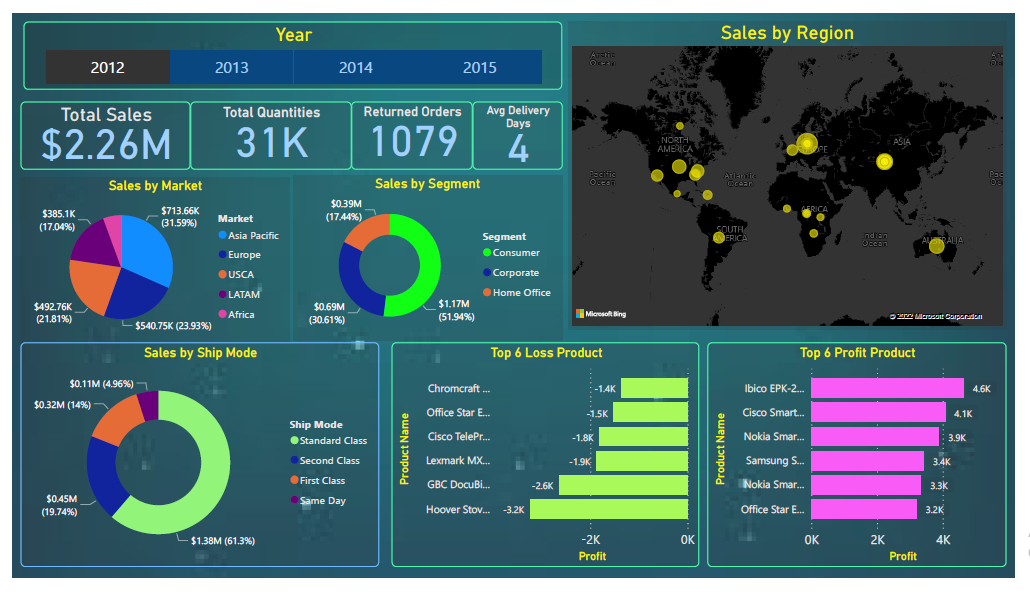

This screenshot's page, from the dashboard's own definition file:
{"tool":"powerbi","page":{"name":"DAX+","canvas":[1280,720],"ordinal":0},"visuals":[{"type":"card","title":"Total Sales","fields":{"Values":["Sum(Orders.Sales)"]},"box":[10.1,112.2,216.9,87],"z":0},{"type":"card","title":"Total Quantities ","fields":{"Values":["Sum(Orders.Quantity)"]},"box":[227,112.2,205.5,87],"z":1},{"type":"card","title":"Avg Delivery Days","fields":{"Values":["Avg(Orders.Delivery Days)"]},"box":[587.6,112.2,114.7,87],"z":2},{"type":"slicer","title":"Year","fields":{"Values":["Orders.Year"]},"box":[13.9,10.1,688.5,87],"z":3},{"type":"card","title":"Returned Orders","fields":{"Values":["Sum(Returns.No. of Returned Orders)"]},"box":[432.5,112.2,155.1,87],"z":4},{"type":"map","fields":{"Size":["Sum(Orders.Sales)"],"Category":["Orders.Region"]},"box":[709.9,10.1,559.9,393.4],"z":5},{"type":"clusteredBarChart","title":"Top 6 Profit Product","fields":{"Y":["Sum(Orders.Profit)"],"Category":["Orders.Product Name"]},"box":[887.7,419.9,382.1,287.5],"z":6},{"type":"clusteredBarChart","title":"Top 6 Loss Product","fields":{"Y":["Sum(Orders.Profit)"],"Category":["Orders.Product Name"]},"box":[484.2,419.9,393.4,287.5],"z":7},{"type":"pieChart","fields":{"Y":["Sum(Orders.Sales)"],"Category":["Orders.Market"]},"box":[10.1,209.3,344.2,210.6],"z":8},{"type":"donutChart","fields":{"Y":["Sum(Orders.Sales)"],"Category":["Orders.Segment"]},"box":[358.1,206.8,344.2,210.6],"z":9},{"type":"donutChart","fields":{"Category":["Orders.Ship Mode"],"Y":["Sum(Orders.Sales)"]},"box":[10.1,419.9,457.7,287.5],"z":10}]}

Visuals, with their boxes in screenshot pixels (x1, y1, x2, y2), scaled from the page's 1280x720 canvas onto the 1030x594 screenshot:
"Total Sales" card: rect(8, 93, 183, 164)
"Total Quantities " card: rect(183, 93, 348, 164)
"Avg Delivery Days" card: rect(473, 93, 565, 164)
"Year" slicer: rect(11, 8, 565, 80)
"Returned Orders" card: rect(348, 93, 473, 164)
map - Sum(Orders.Sales) x Orders.Region: rect(571, 8, 1022, 333)
"Top 6 Profit Product" clusteredBarChart: rect(714, 346, 1022, 584)
"Top 6 Loss Product" clusteredBarChart: rect(390, 346, 706, 584)
pieChart - Sum(Orders.Sales) x Orders.Market: rect(8, 173, 285, 346)
donutChart - Sum(Orders.Sales) x Orders.Segment: rect(288, 171, 565, 344)
donutChart - Orders.Ship Mode x Sum(Orders.Sales): rect(8, 346, 376, 584)
